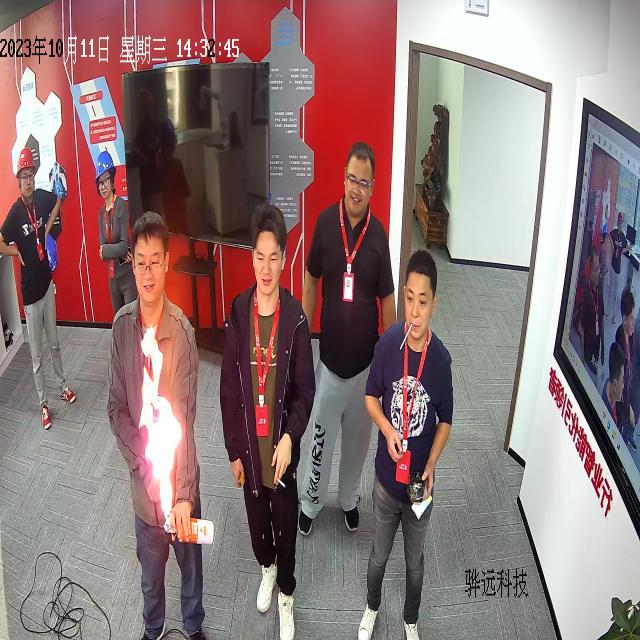Fire: (136, 327, 182, 519)
